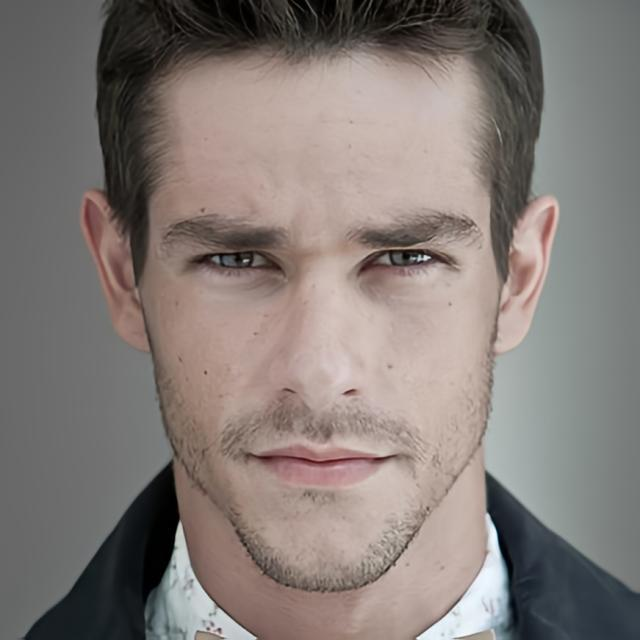content: (142, 36, 499, 594)
